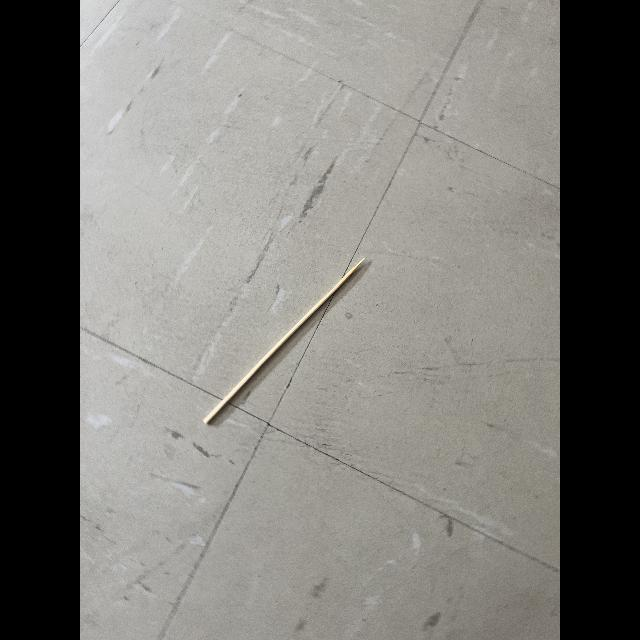stick: (199, 250, 375, 432)
